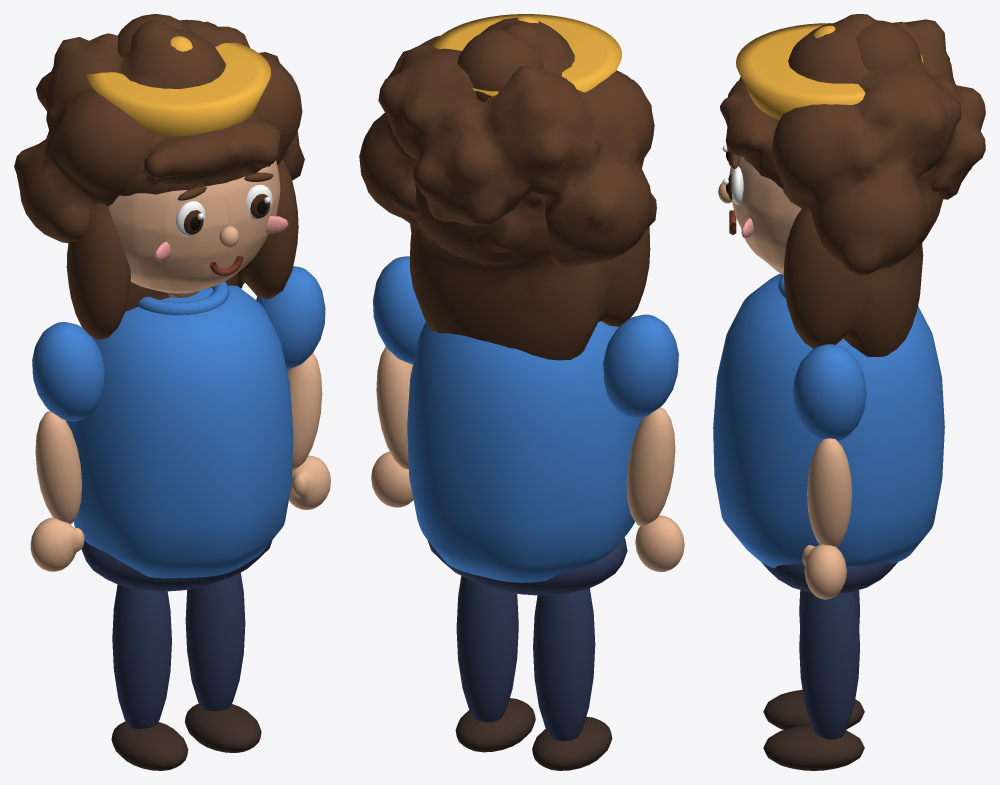
File: cliente.glb
3 views of the same model, side by side, from view 1: azimuth 30°, elevation 25°; view 2: azimuth 150°, elevation 25°; view 3: azimuth 270°, elevation 25° (orthographic). The views are drawn at different scales.
Parts seen in each view (by area): view 1: cliente_camisa, cliente_cabelo_estilo3, cliente_pele_cabeca, cliente_cabelo_estilo1, cliente_coroa, cliente_calca_L, cliente_cabelo_estilo0, cliente_calca_R, cliente_camisa_manga_L, cliente_camisa_manga_R, cliente_pele_braco_L, cliente_sapato_L (+7 smaller); view 2: cliente_camisa, cliente_cabelo_estilo3, cliente_cabelo_estilo1, cliente_calca_L, cliente_calca_R, cliente_camisa_manga_L, cliente_cabelo_estilo2, cliente_coroa, cliente_pele_braco_L, cliente_cabelo_estilo0, cliente_camisa_manga_R, cliente_pele_braco_R (+5 smaller); view 3: cliente_camisa, cliente_cabelo_estilo3, cliente_cabelo_estilo1, cliente_calca_R, cliente_coroa, cliente_camisa_manga_R, cliente_pele_cabeca, cliente_pele_braco_R, cliente_cabelo_estilo0, cliente_sapato_R, cliente_cabelo_estilo2, cliente_pele_mao_R (+2 smaller).
Boxes of the visible parts, x1,y1,x2,y2 form: cliente_camisa: (65,285,293,578); cliente_cabelo_estilo3: (14,19,304,243); cliente_pele_cabeca: (108,160,280,293); cliente_cabelo_estilo1: (66,139,298,339); cliente_coroa: (86,42,270,136); cliente_calca_L: (112,584,171,728); cliente_cabelo_estilo0: (125,114,281,195); cliente_calca_R: (185,572,245,710); cliente_camisa_manga_L: (32,322,104,421); cliente_camisa_manga_R: (256,266,325,369); cliente_pele_braco_L: (35,411,82,524); cliente_sapato_L: (111,721,188,770); cliente_camisa: (407,321,643,582); cliente_cabelo_estilo3: (359,17,656,266); cliente_cabelo_estilo1: (410,158,650,360); cliente_calca_L: (533,588,595,740); cliente_calca_R: (456,576,518,722); cliente_camisa_manga_L: (603,314,678,417); cliente_cabelo_estilo2: (414,29,551,265); cliente_coroa: (432,14,621,96); cliente_pele_braco_L: (626,407,675,526); cliente_cabelo_estilo0: (409,79,639,266); cliente_camisa_manga_R: (373,256,425,364); cliente_pele_braco_R: (376,346,412,468); cliente_camisa: (713,273,944,568); cliente_cabelo_estilo3: (772,14,985,276); cliente_cabelo_estilo1: (753,162,942,356); cliente_calca_R: (799,591,859,739); cliente_coroa: (736,23,923,119); cliente_camisa_manga_R: (792,344,866,440); cliente_pele_cabeca: (729,156,801,274); cliente_pele_braco_R: (807,438,852,547); cliente_cabelo_estilo0: (720,77,942,254); cliente_sapato_R: (763,725,864,770); cliente_cabelo_estilo2: (753,20,942,244); cliente_pele_mao_R: (802,544,846,599).
Bounding box in the file's own units: 0.8871 × 2.05 × 0.6983.
